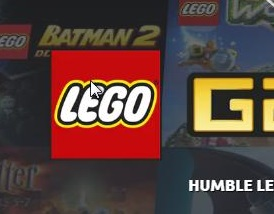cursor: (89, 78, 103, 100)
